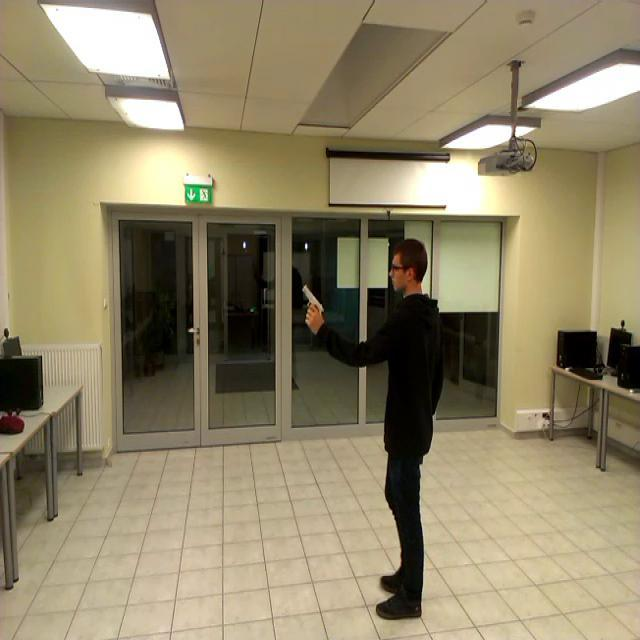Gun: (303, 284, 325, 323)
